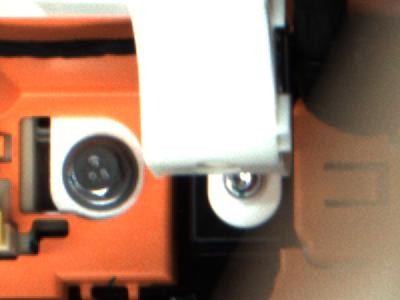nut_b: (62, 135, 129, 208)
